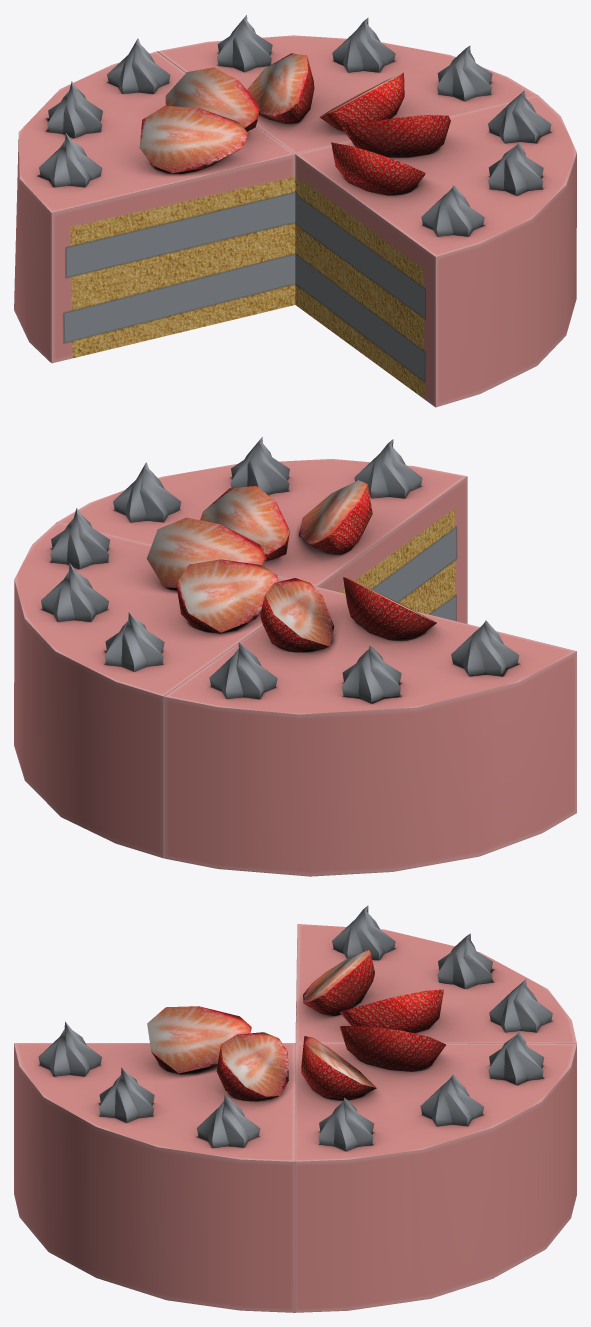
The model's file is piece_of_cake_full.obj.
3 renders of one model, top to bottom at view 1: azimuth 30°, elevation 25°; view 2: azimuth 150°, elevation 25°; view 3: azimuth 270°, elevation 25°, orthographic. The views are drawn at different scales.
Parts seen in each view (by area): view 1: piece_of_cake.003; view 2: piece_of_cake.003; view 3: piece_of_cake.003.
Boxes of the visible parts, x1,y1,x2,y2 form: piece_of_cake.003: (14, 15, 576, 407); piece_of_cake.003: (14, 437, 576, 876); piece_of_cake.003: (14, 905, 576, 1312).
Size of the model in its own units: 67.37 by 25.77 by 67.37.
